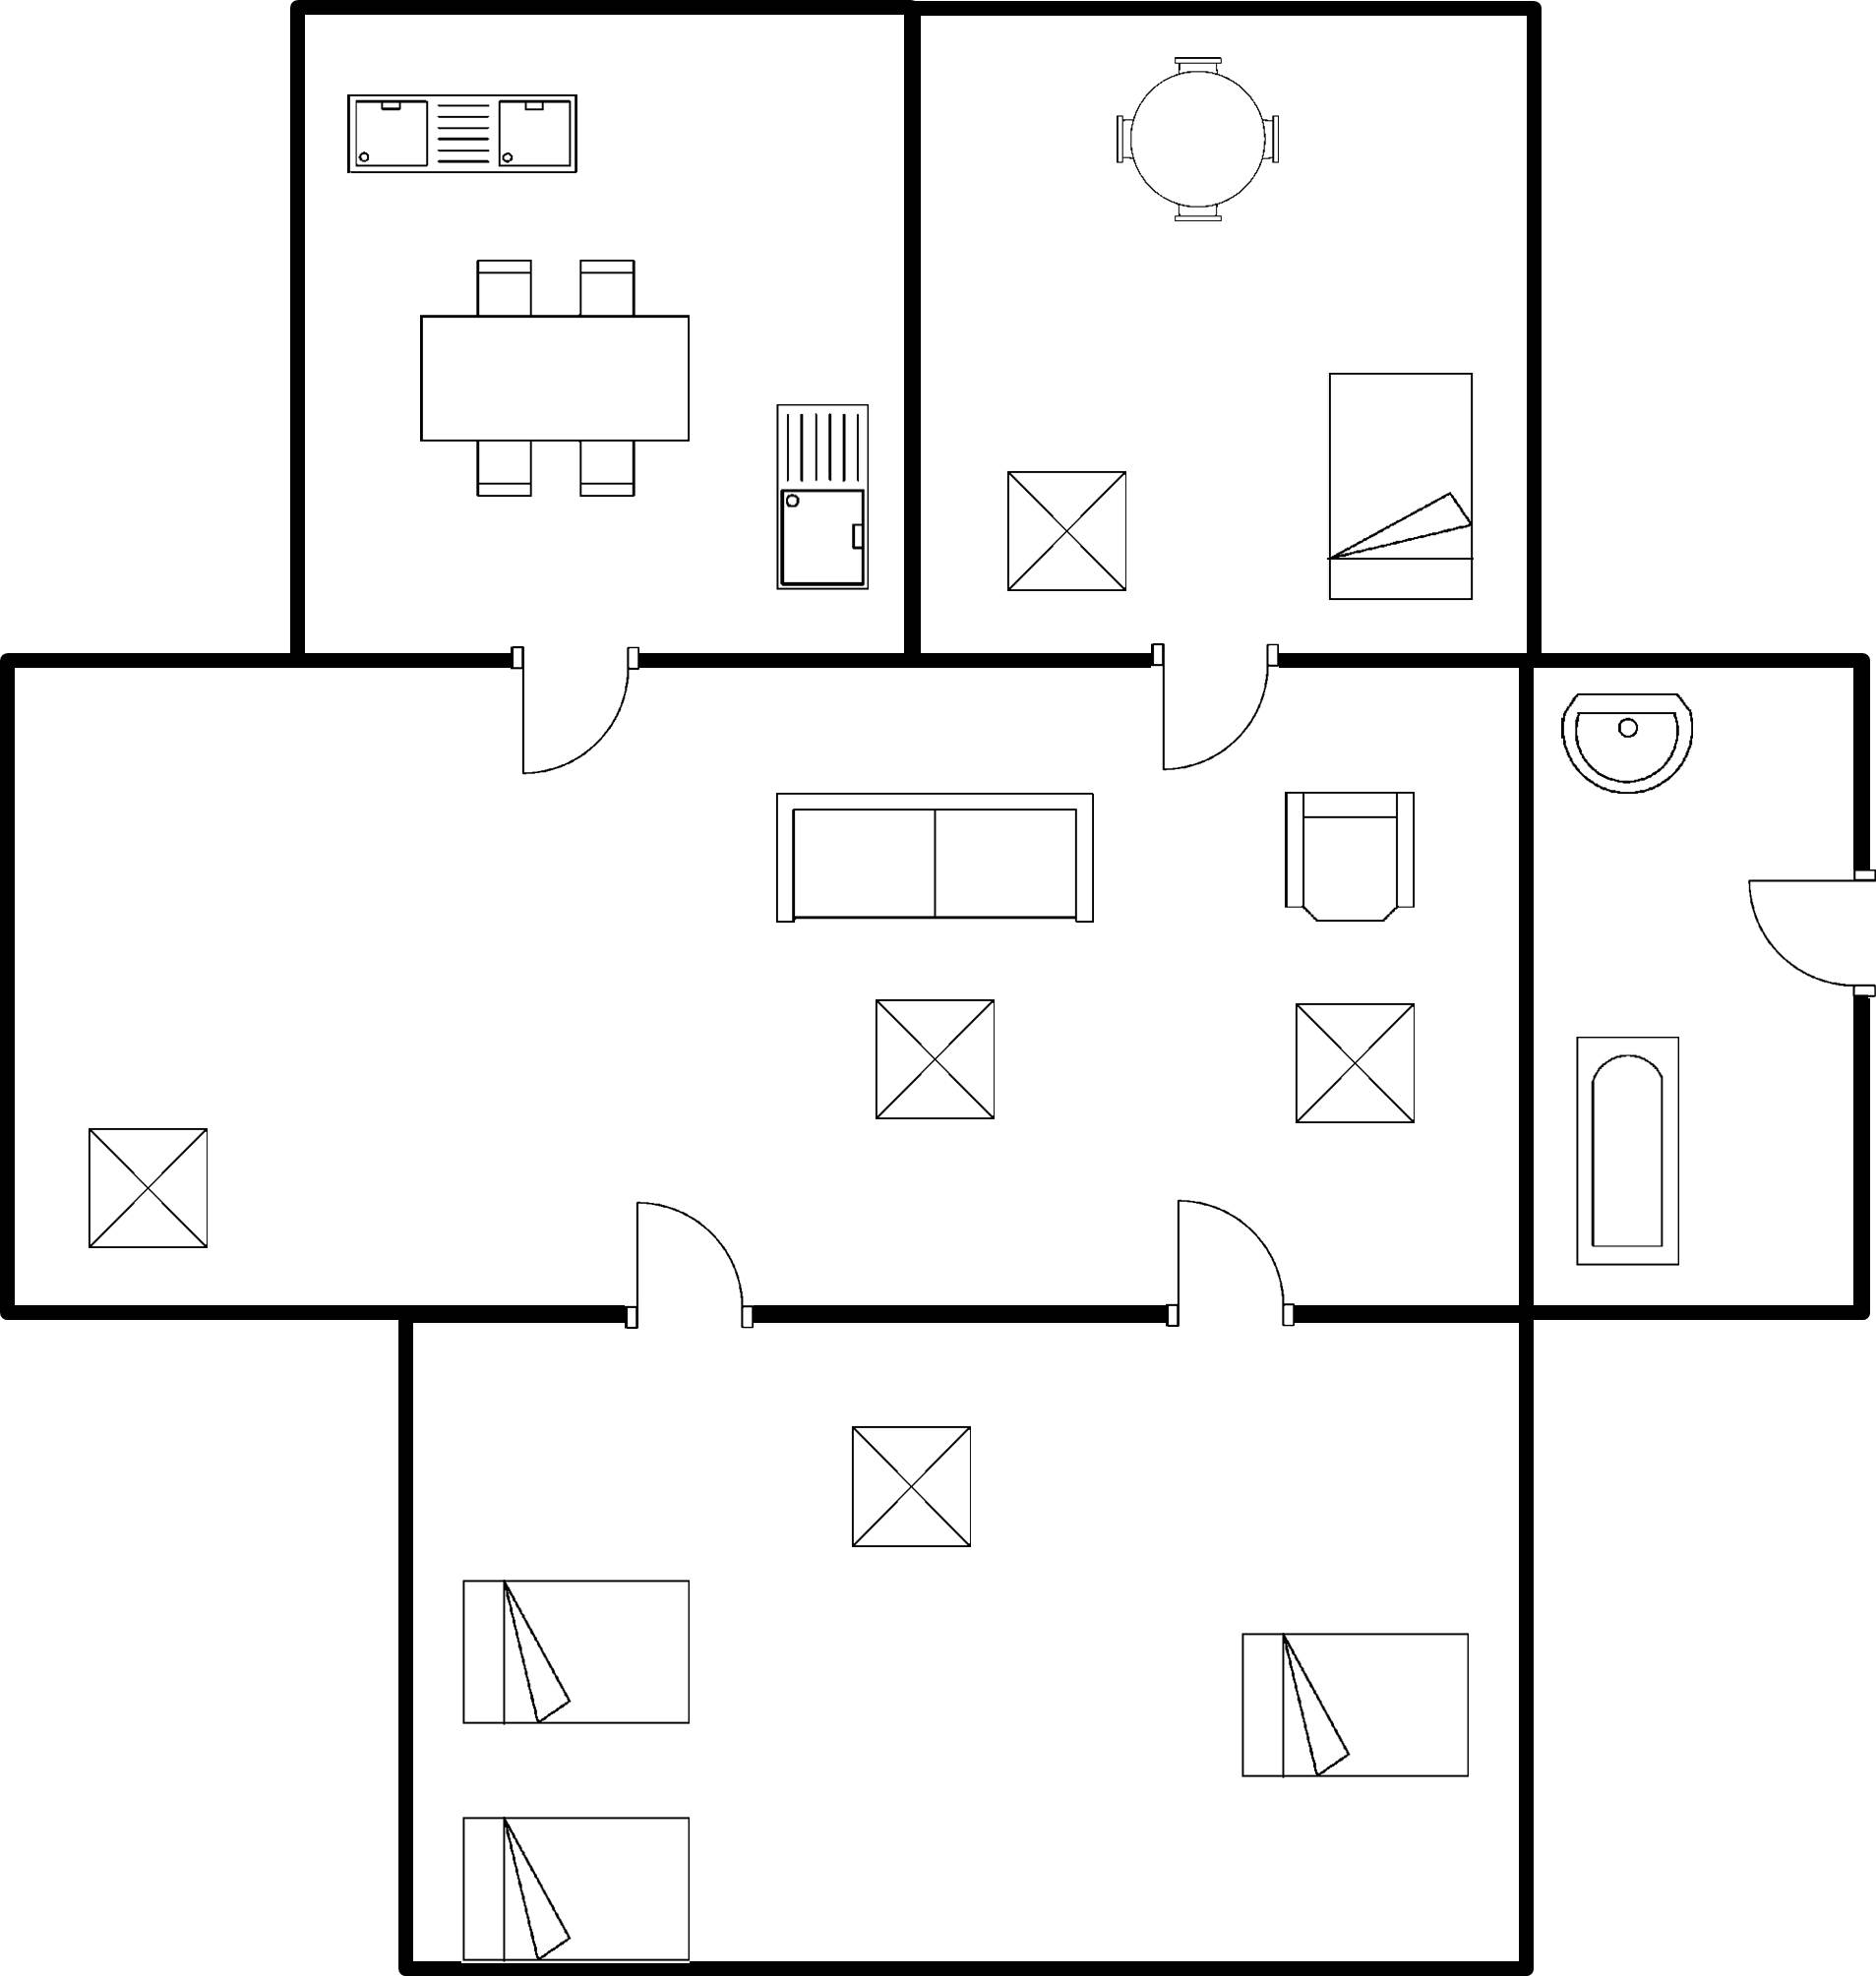armchair: (1263, 775, 1426, 937)
bed: (439, 1568, 703, 1738), (1313, 359, 1484, 623), (1223, 1620, 1483, 1787), (451, 1799, 709, 1967)
coffee_table: (832, 1409, 987, 1564), (989, 451, 1141, 606), (75, 1116, 225, 1271), (862, 984, 1010, 1138), (1282, 991, 1430, 1132)
dining_table: (406, 247, 707, 508)
large_sofa: (752, 773, 1111, 937)
round_table: (1095, 40, 1305, 241)
sink: (763, 395, 880, 602)
small_sink: (1546, 683, 1705, 804)
tub: (1554, 1018, 1699, 1285)
twin_sink: (332, 75, 589, 193)
